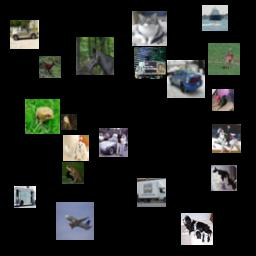airplane: (56, 202, 94, 240)
automobile: (167, 60, 205, 98), (99, 128, 128, 157), (10, 20, 39, 49)
cat: (132, 11, 167, 46), (211, 165, 237, 191)
deer: (208, 43, 240, 75), (39, 56, 61, 78)
dog: (181, 213, 213, 245), (63, 135, 89, 161), (212, 89, 234, 111)
frog: (25, 99, 60, 134), (62, 162, 84, 184), (61, 114, 77, 130)
ship: (202, 5, 228, 31)
truck: (134, 47, 166, 79), (137, 178, 166, 207), (14, 186, 36, 208)
